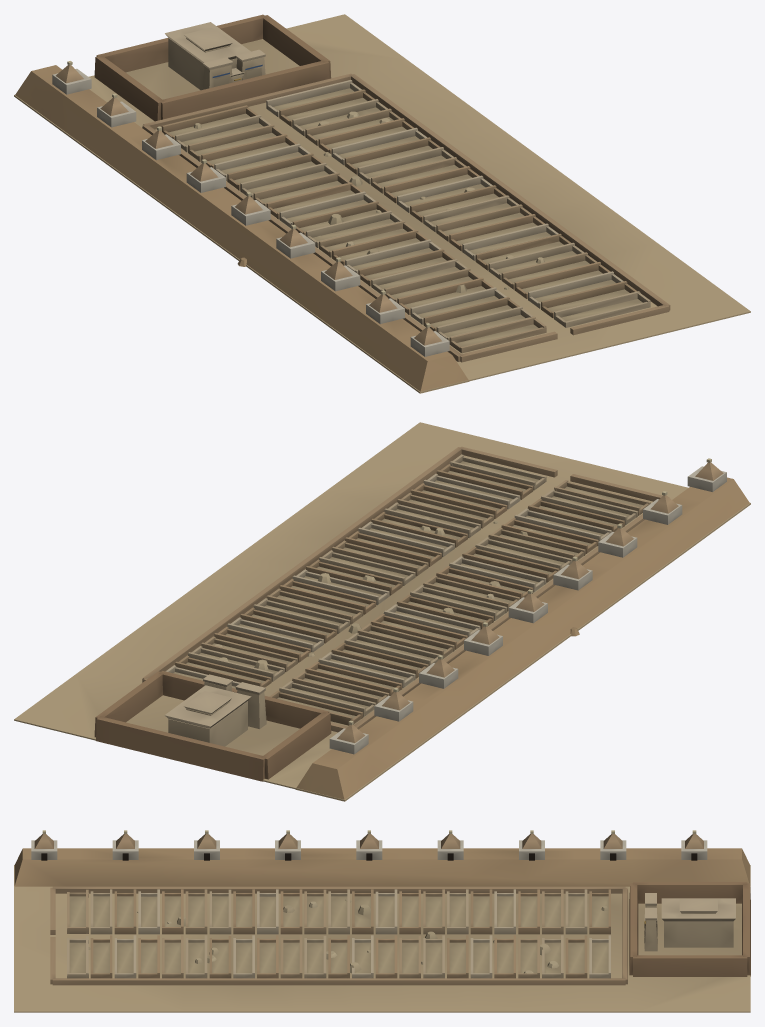
The model's file is deir-el-medina-hathor.glb.
3 renders of one model, top to bottom at view 1: azimuth 30°, elevation 25°; view 2: azimuth 150°, elevation 25°; view 3: azimuth 270°, elevation 25°, orthographic. The views are drawn at different scales.
Visible parts, largest first — view 1: p0_slope, p2_houses, p1_temple, p3_tombs; view 2: p0_slope, p2_houses, p1_temple, p3_tombs; view 3: p0_slope, p2_houses, p1_temple, p3_tombs.
Boxes of the visible parts, x1,y1,x2,y2 form: p0_slope: [14, 14, 750, 393]; p2_houses: [162, 80, 650, 353]; p1_temple: [94, 14, 670, 362]; p3_tombs: [52, 61, 449, 356]; p0_slope: [14, 422, 750, 801]; p2_houses: [165, 454, 650, 725]; p1_temple: [94, 446, 662, 781]; p3_tombs: [329, 458, 726, 754]; p0_slope: [14, 848, 750, 1012]; p2_houses: [67, 889, 610, 978]; p1_temple: [50, 882, 750, 985]; p3_tombs: [31, 830, 707, 860].
Size of the model in its own units: 81.18 by 11.87 by 170.
